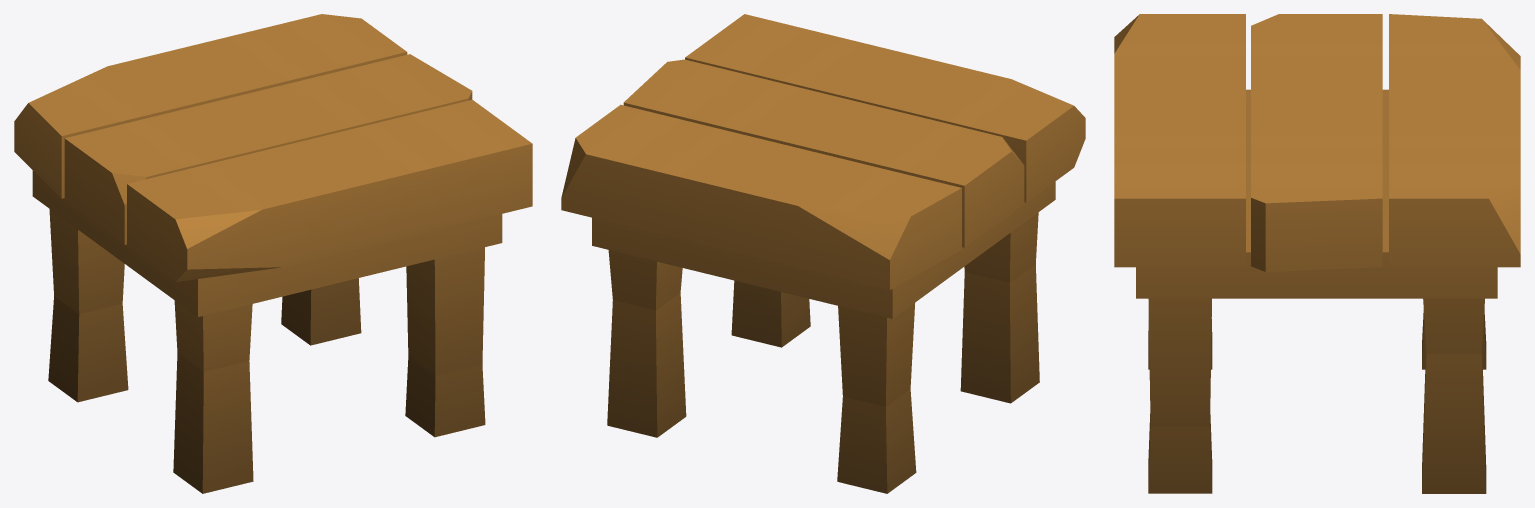
The model's file is Stool001.fbx.
The picture shows the model from 3 angles, left to right: view 1: azimuth 30°, elevation 25°; view 2: azimuth 150°, elevation 25°; view 3: azimuth 270°, elevation 25°; orthographic projection. The views are drawn at different scales.
Parts seen in each view (by area): view 1: Cube.027; view 2: Cube.027; view 3: Cube.027.
Boxes of the visible parts, x1,y1,x2,y2 form: Cube.027: [14, 14, 532, 493]; Cube.027: [561, 14, 1085, 493]; Cube.027: [1114, 14, 1520, 493].
Size of the model in its own units: 72.88 by 55.97 by 66.09.
